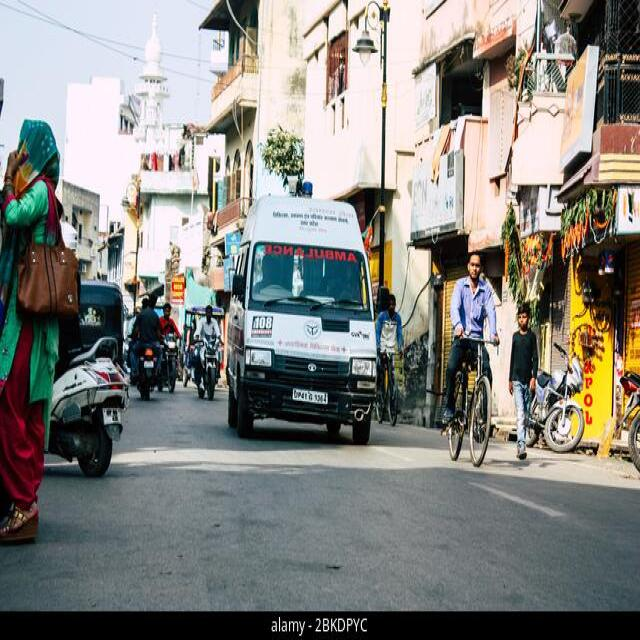bicycle: (442, 254, 499, 464)
emergency: (228, 181, 376, 444)
